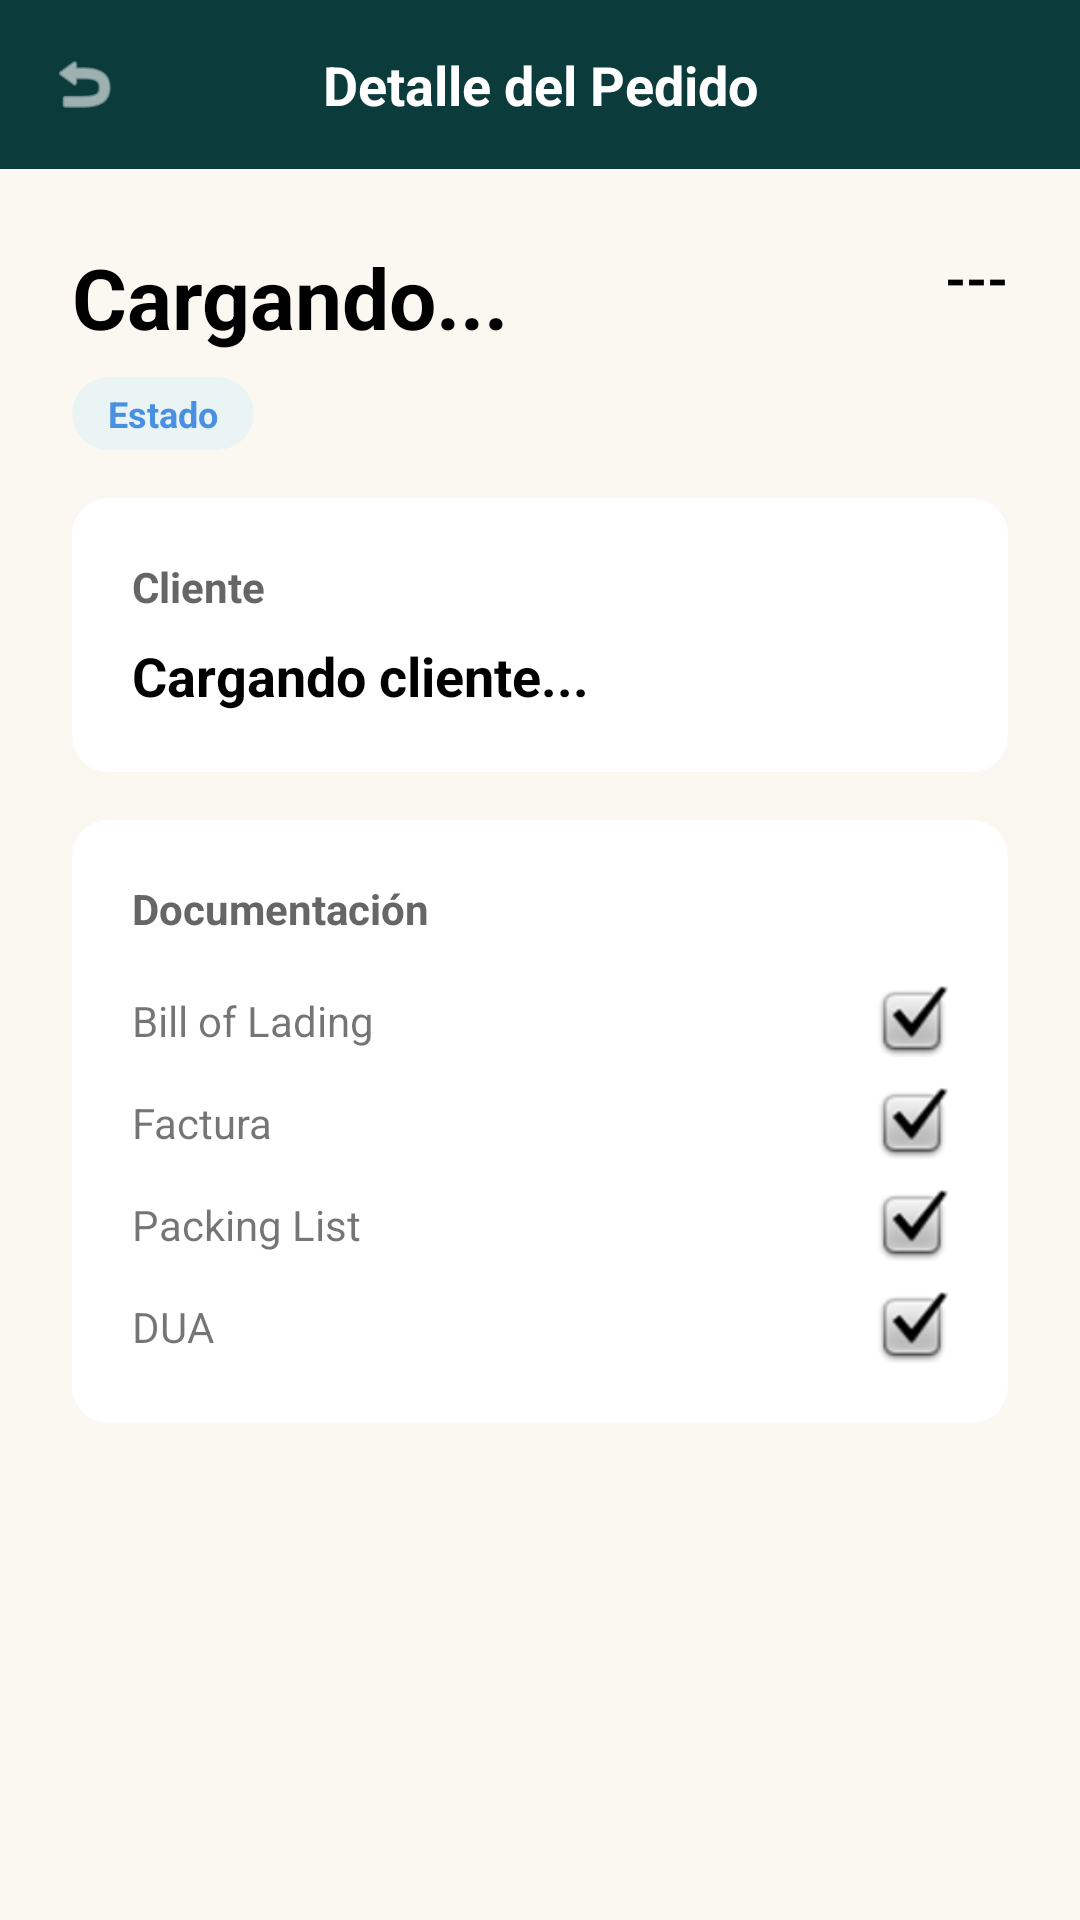

Icon bounding boxes for this 1080*1920 phone screenshot, format (x1, y1, x2, y2):
revert: (59, 61, 111, 108)
